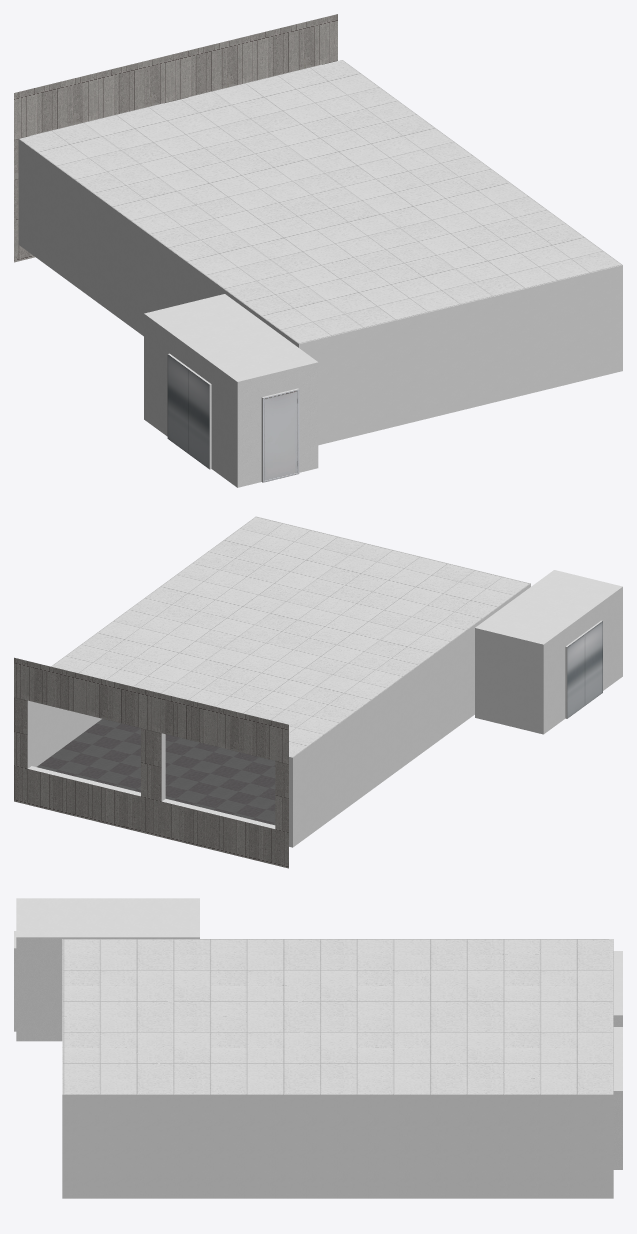
File: OfficeShell.glb
The picture shows the model from 3 angles, top to bottom: view 1: azimuth 30°, elevation 25°; view 2: azimuth 150°, elevation 25°; view 3: azimuth 270°, elevation 25°; orthographic projection. The views are drawn at different scales.
Visible parts, largest first — view 1: office; view 2: office; view 3: office.
Boxes of the visible parts, <box> form: office: <box>14,14,622,487</box>; office: <box>14,516,622,868</box>; office: <box>14,898,622,1198</box>.
Bounding box in the file's own units: 10.15 × 4 × 13.25.
Materials: 11 (11 with a texture image).
